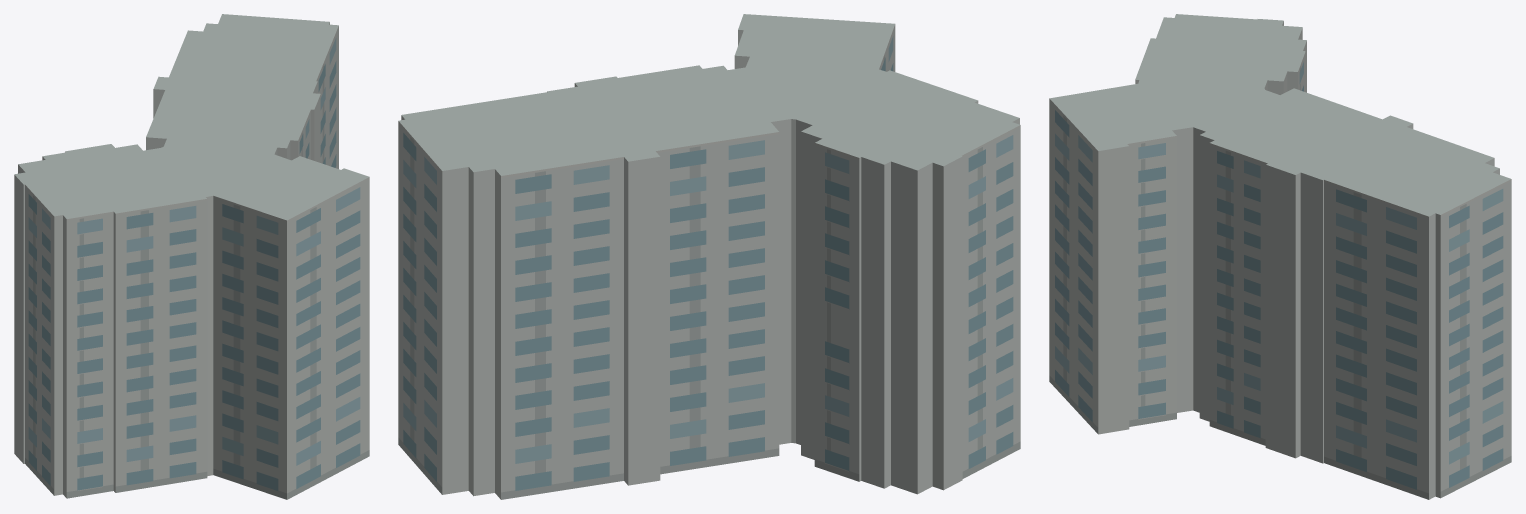
Rendered from residential-a8cab6ec-3757-4570-8b60-0e412c320b0d.glb.
3 views of the same model, side by side, from view 1: azimuth 30°, elevation 25°; view 2: azimuth 150°, elevation 25°; view 3: azimuth 270°, elevation 25° (orthographic). The views are drawn at different scales.
Visible parts, largest first — view 1: residential-a8cab6ec-3757-4570-8b60-0e412c320b0d.tmp; view 2: residential-a8cab6ec-3757-4570-8b60-0e412c320b0d.tmp; view 3: residential-a8cab6ec-3757-4570-8b60-0e412c320b0d.tmp.
Boxes of the visible parts, x1,y1,x2,y2 form: residential-a8cab6ec-3757-4570-8b60-0e412c320b0d.tmp: (14, 14, 369, 499); residential-a8cab6ec-3757-4570-8b60-0e412c320b0d.tmp: (398, 14, 1020, 499); residential-a8cab6ec-3757-4570-8b60-0e412c320b0d.tmp: (1049, 14, 1511, 499).
Size of the model in its own units: 56.76 by 37 by 54.71.
